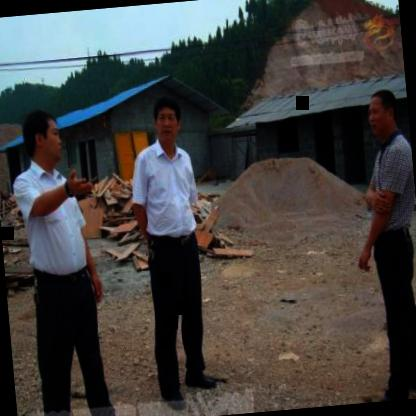head: (18, 105, 68, 169), (362, 85, 404, 142), (150, 95, 186, 150)
